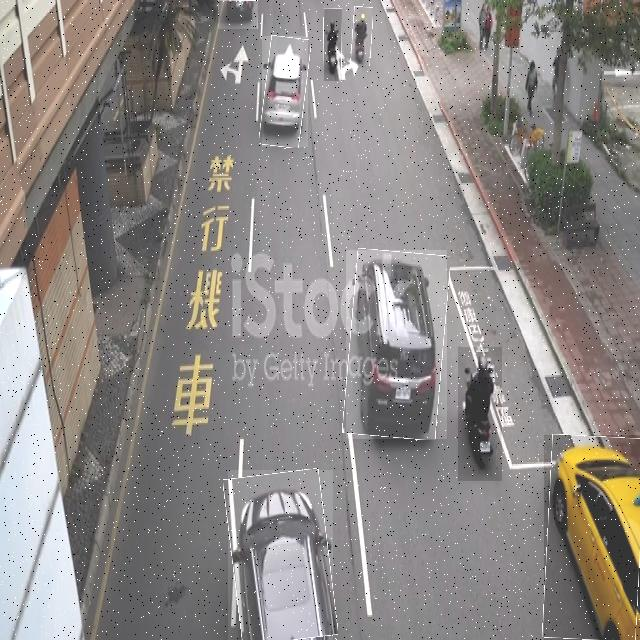Car: (544, 435, 640, 640), (346, 250, 447, 439), (228, 470, 333, 640), (262, 36, 308, 147), (218, 0, 258, 29)
Motorcycle: (458, 347, 502, 481), (324, 8, 342, 81), (351, 7, 372, 66)
